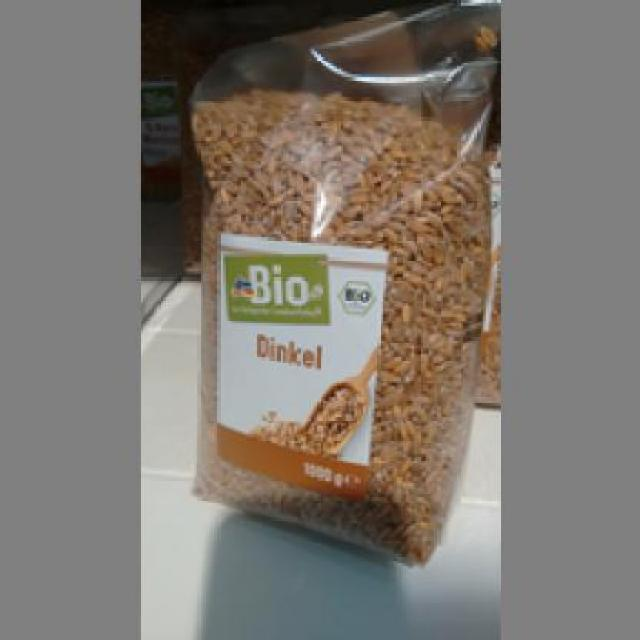Cereal: (188, 86, 488, 560)
